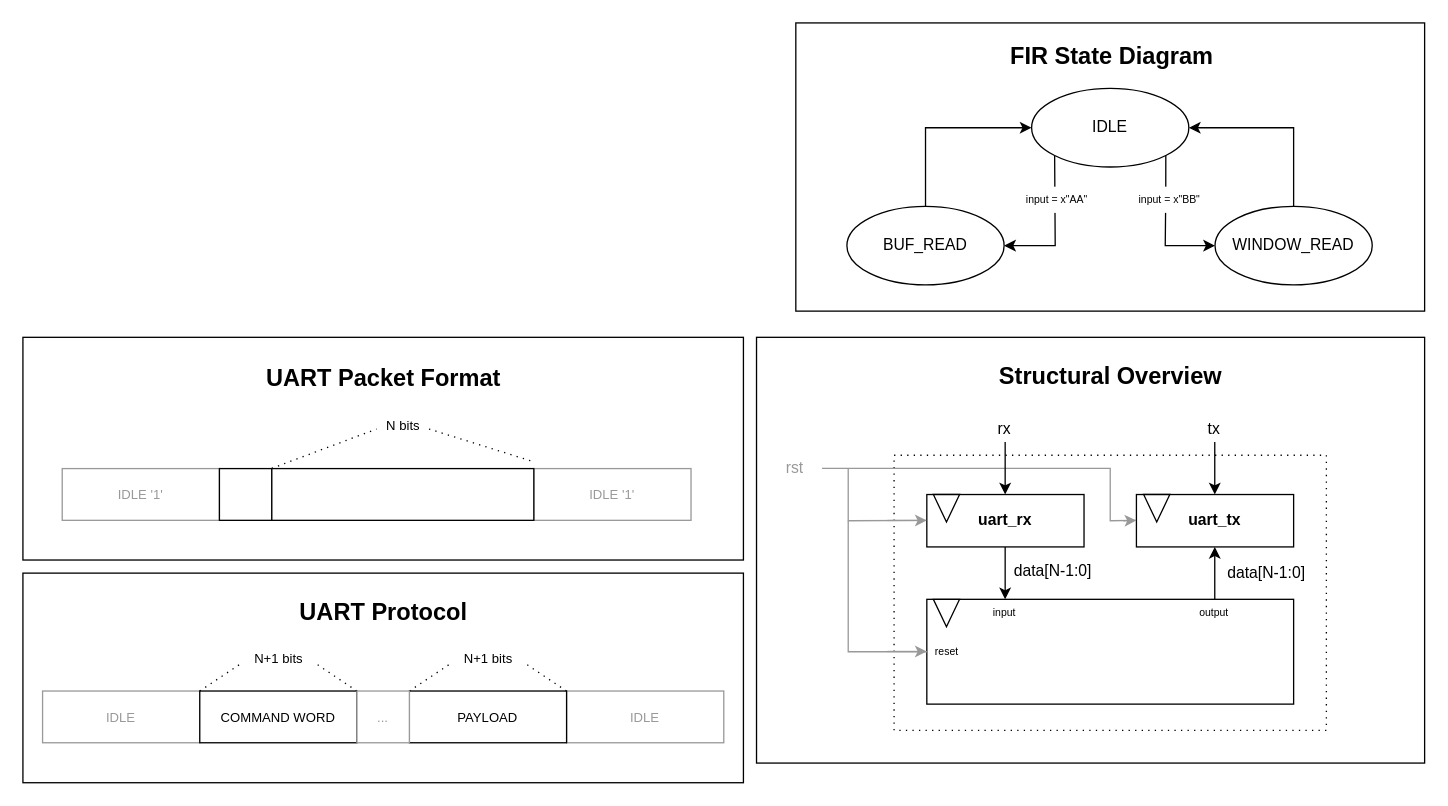
The diagram is 1448 pixels wide and 806 high, and some of its shapes have lost their labels. The shapes that lost their labels are listed below. From the top down, each one's box as (x1, y1, x2, y2) in pixels, then its label:
(218, 467, 272, 520): Start '0'
(271, 467, 534, 520): Data
(926, 598, 1294, 704): fir
